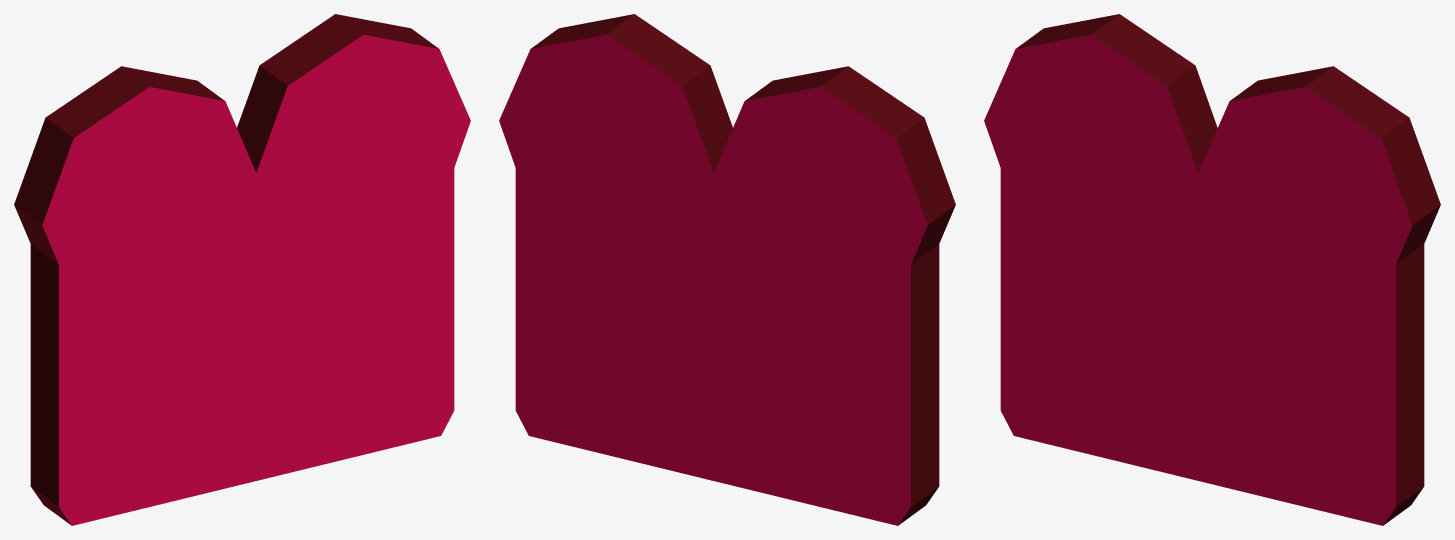
Rendered from Toast_01.fbx.
3 views of the same model, side by side, from view 1: azimuth 30°, elevation 25°; view 2: azimuth 150°, elevation 25°; view 3: azimuth 330°, elevation 25° (orthographic).
Parts seen in each view (by area): view 1: Toast_01; view 2: Toast_01; view 3: Toast_01.
Boxes of the visible parts, x1=… form: Toast_01: x1=14, y1=14, x2=470, y2=525; Toast_01: x1=499, y1=14, x2=955, y2=525; Toast_01: x1=984, y1=14, x2=1440, y2=525.
Size of the model in its own units: 5.55 by 5.2 by 0.6337.
